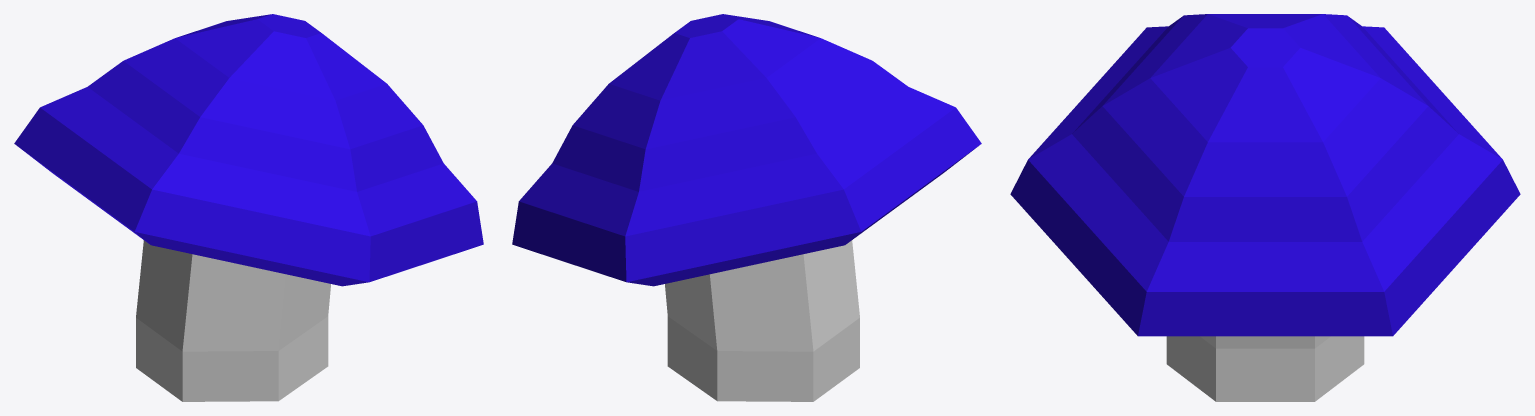
Rendered from Mushroom_04Mini.fbx.
3 views of the same model, side by side, from view 1: azimuth 30°, elevation 25°; view 2: azimuth 150°, elevation 25°; view 3: azimuth 270°, elevation 25° (orthographic). The views are drawn at different scales.
Visible parts, largest first — view 1: Mushroom_04Mini; view 2: Mushroom_04Mini; view 3: Mushroom_04Mini.
Part boxes in pixels (box(x1,y1,x2,y2)): Mushroom_04Mini: box(14, 14, 483, 401); Mushroom_04Mini: box(512, 14, 981, 401); Mushroom_04Mini: box(1010, 14, 1520, 401).
Bounding box in the file's own units: 20.34 × 18.58 × 24.31.
